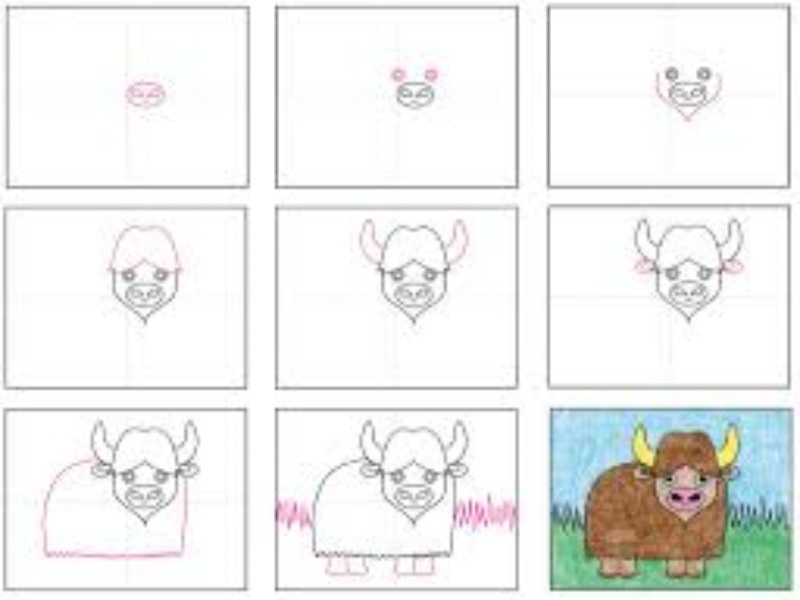buffalo: (581, 423, 754, 585)
